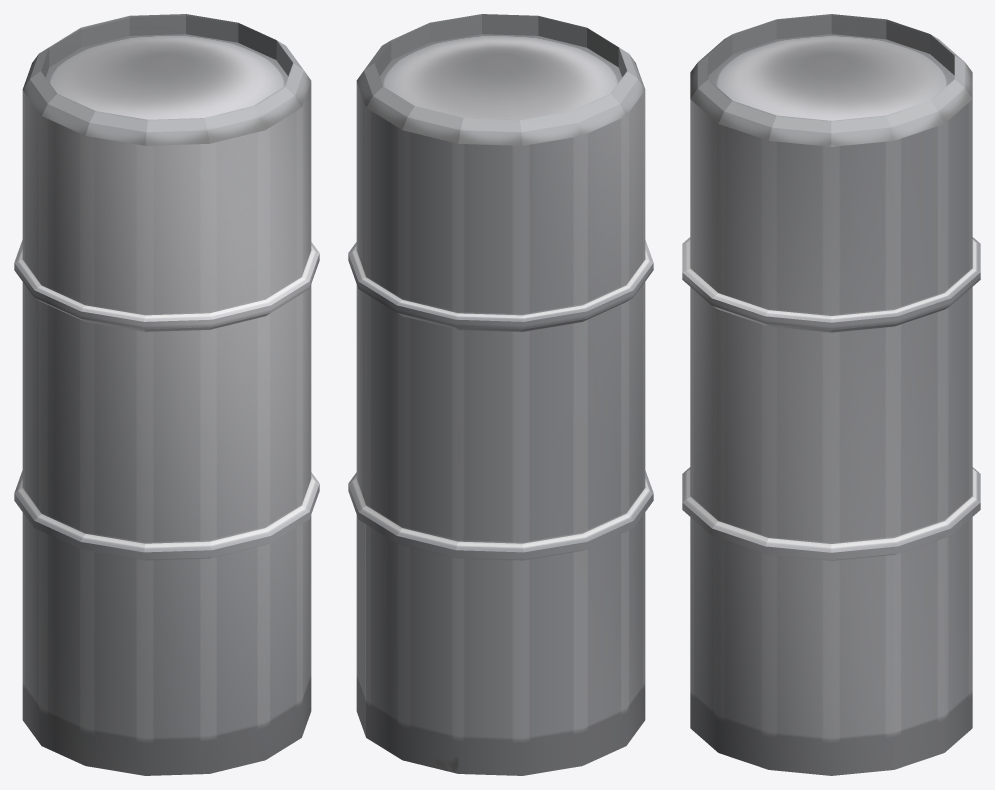
File: industrial_silos_02.fbx
3 views of the same model, side by side, from view 1: azimuth 30°, elevation 25°; view 2: azimuth 150°, elevation 25°; view 3: azimuth 270°, elevation 25° (orthographic).
Visible parts, largest first — view 1: ind:silos_02; view 2: ind:silos_02; view 3: ind:silos_02.
Part boxes in pixels (x1,y1,x2,y2): ind:silos_02: (14,14,319,775); ind:silos_02: (348,14,653,775); ind:silos_02: (682,14,980,775).
Size of the model in its own units: 3.63 by 8.6 by 3.54.
